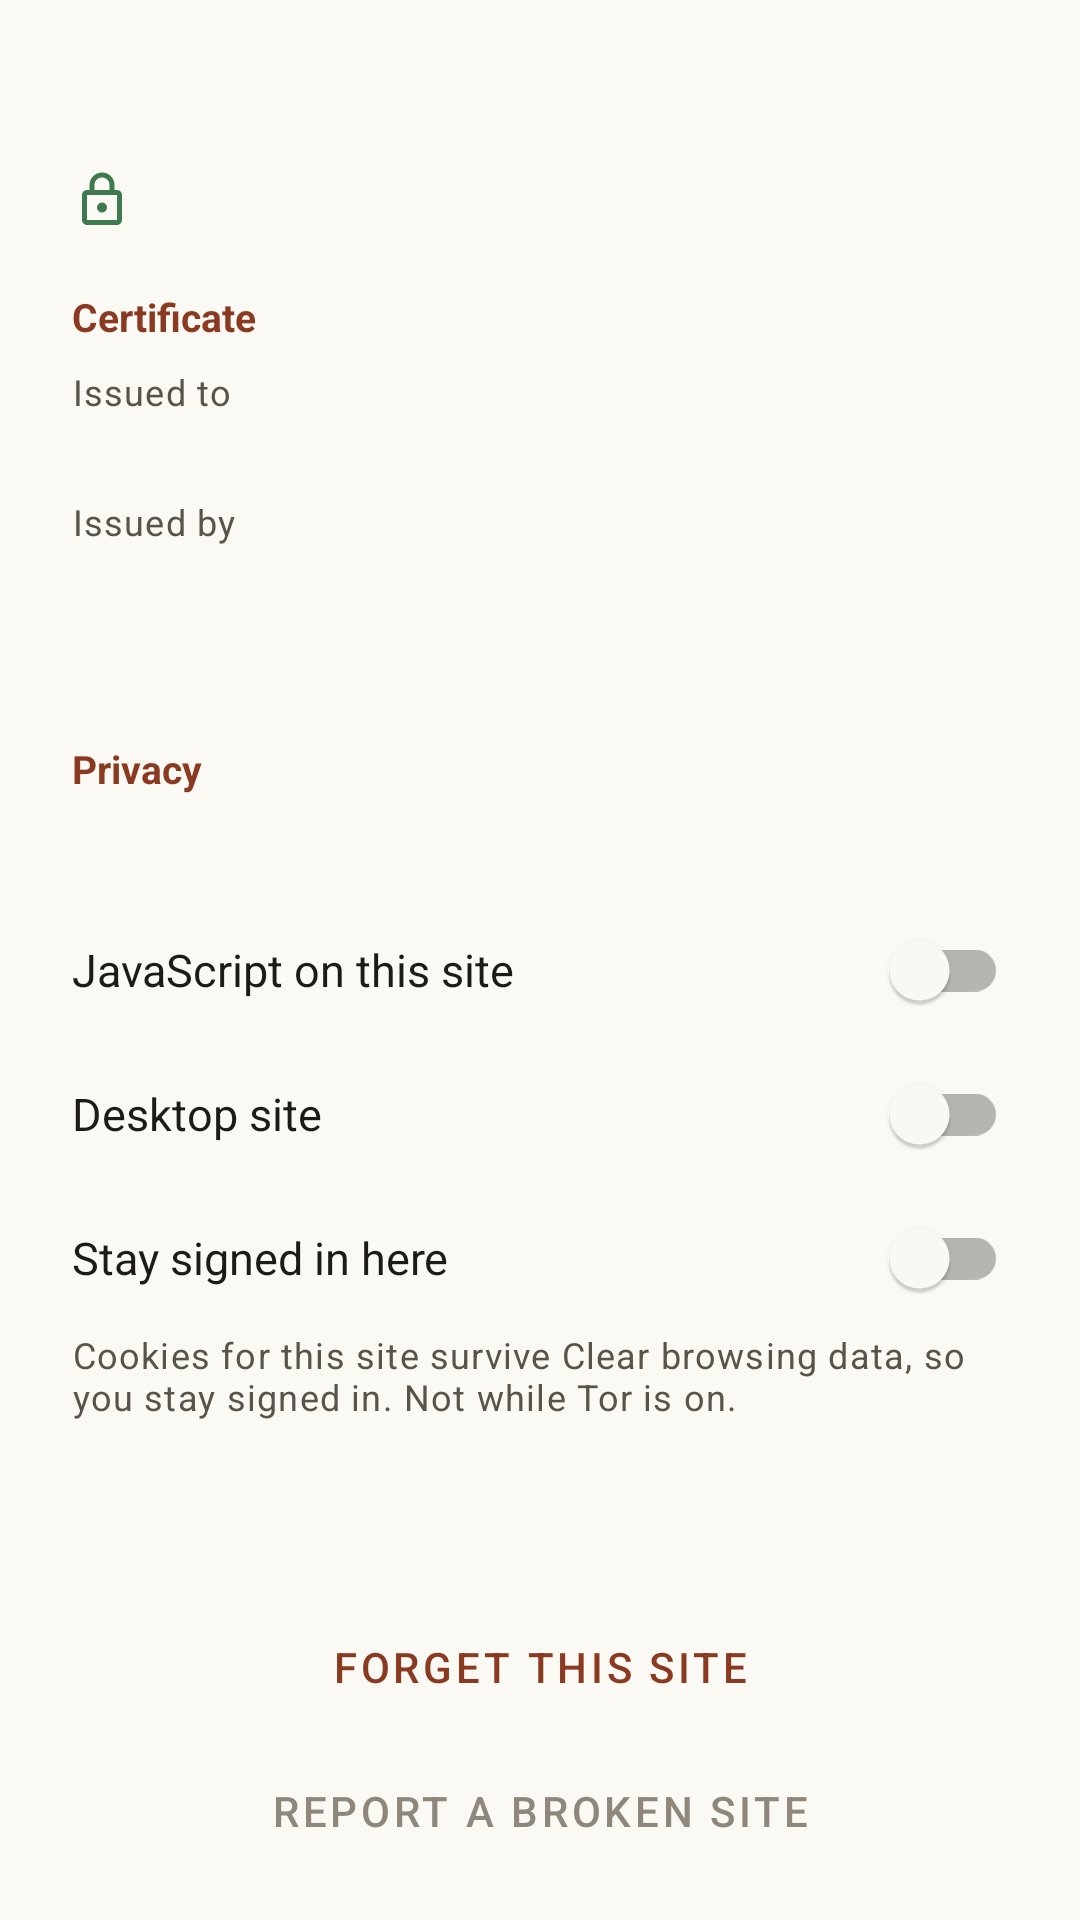

Icon click points for this 1080w x 1920h phone screenshot, format point (x, y):
lock: point (102, 198)
